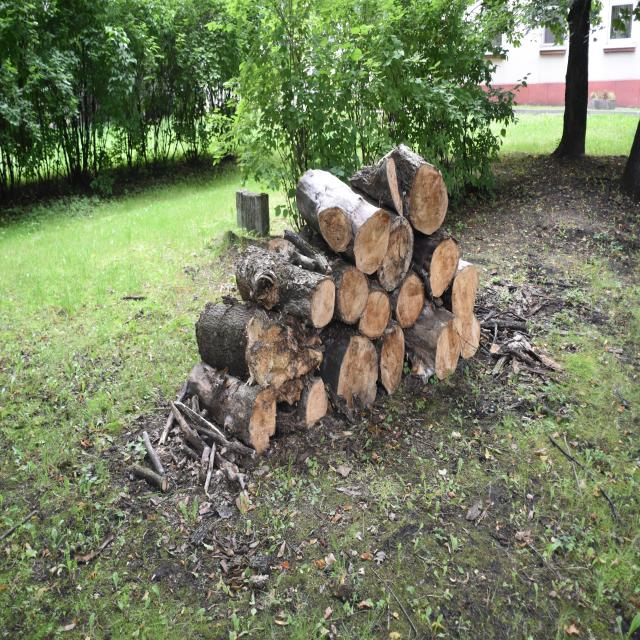restos de madeira: (215, 296, 331, 429), (210, 298, 318, 411), (317, 312, 409, 411), (298, 169, 389, 269), (412, 266, 487, 383), (233, 241, 336, 326), (187, 365, 279, 454), (540, 424, 623, 519), (164, 401, 243, 486), (380, 146, 452, 236), (480, 295, 560, 363), (541, 292, 638, 346), (410, 224, 452, 300), (197, 304, 244, 371), (132, 433, 171, 490)
